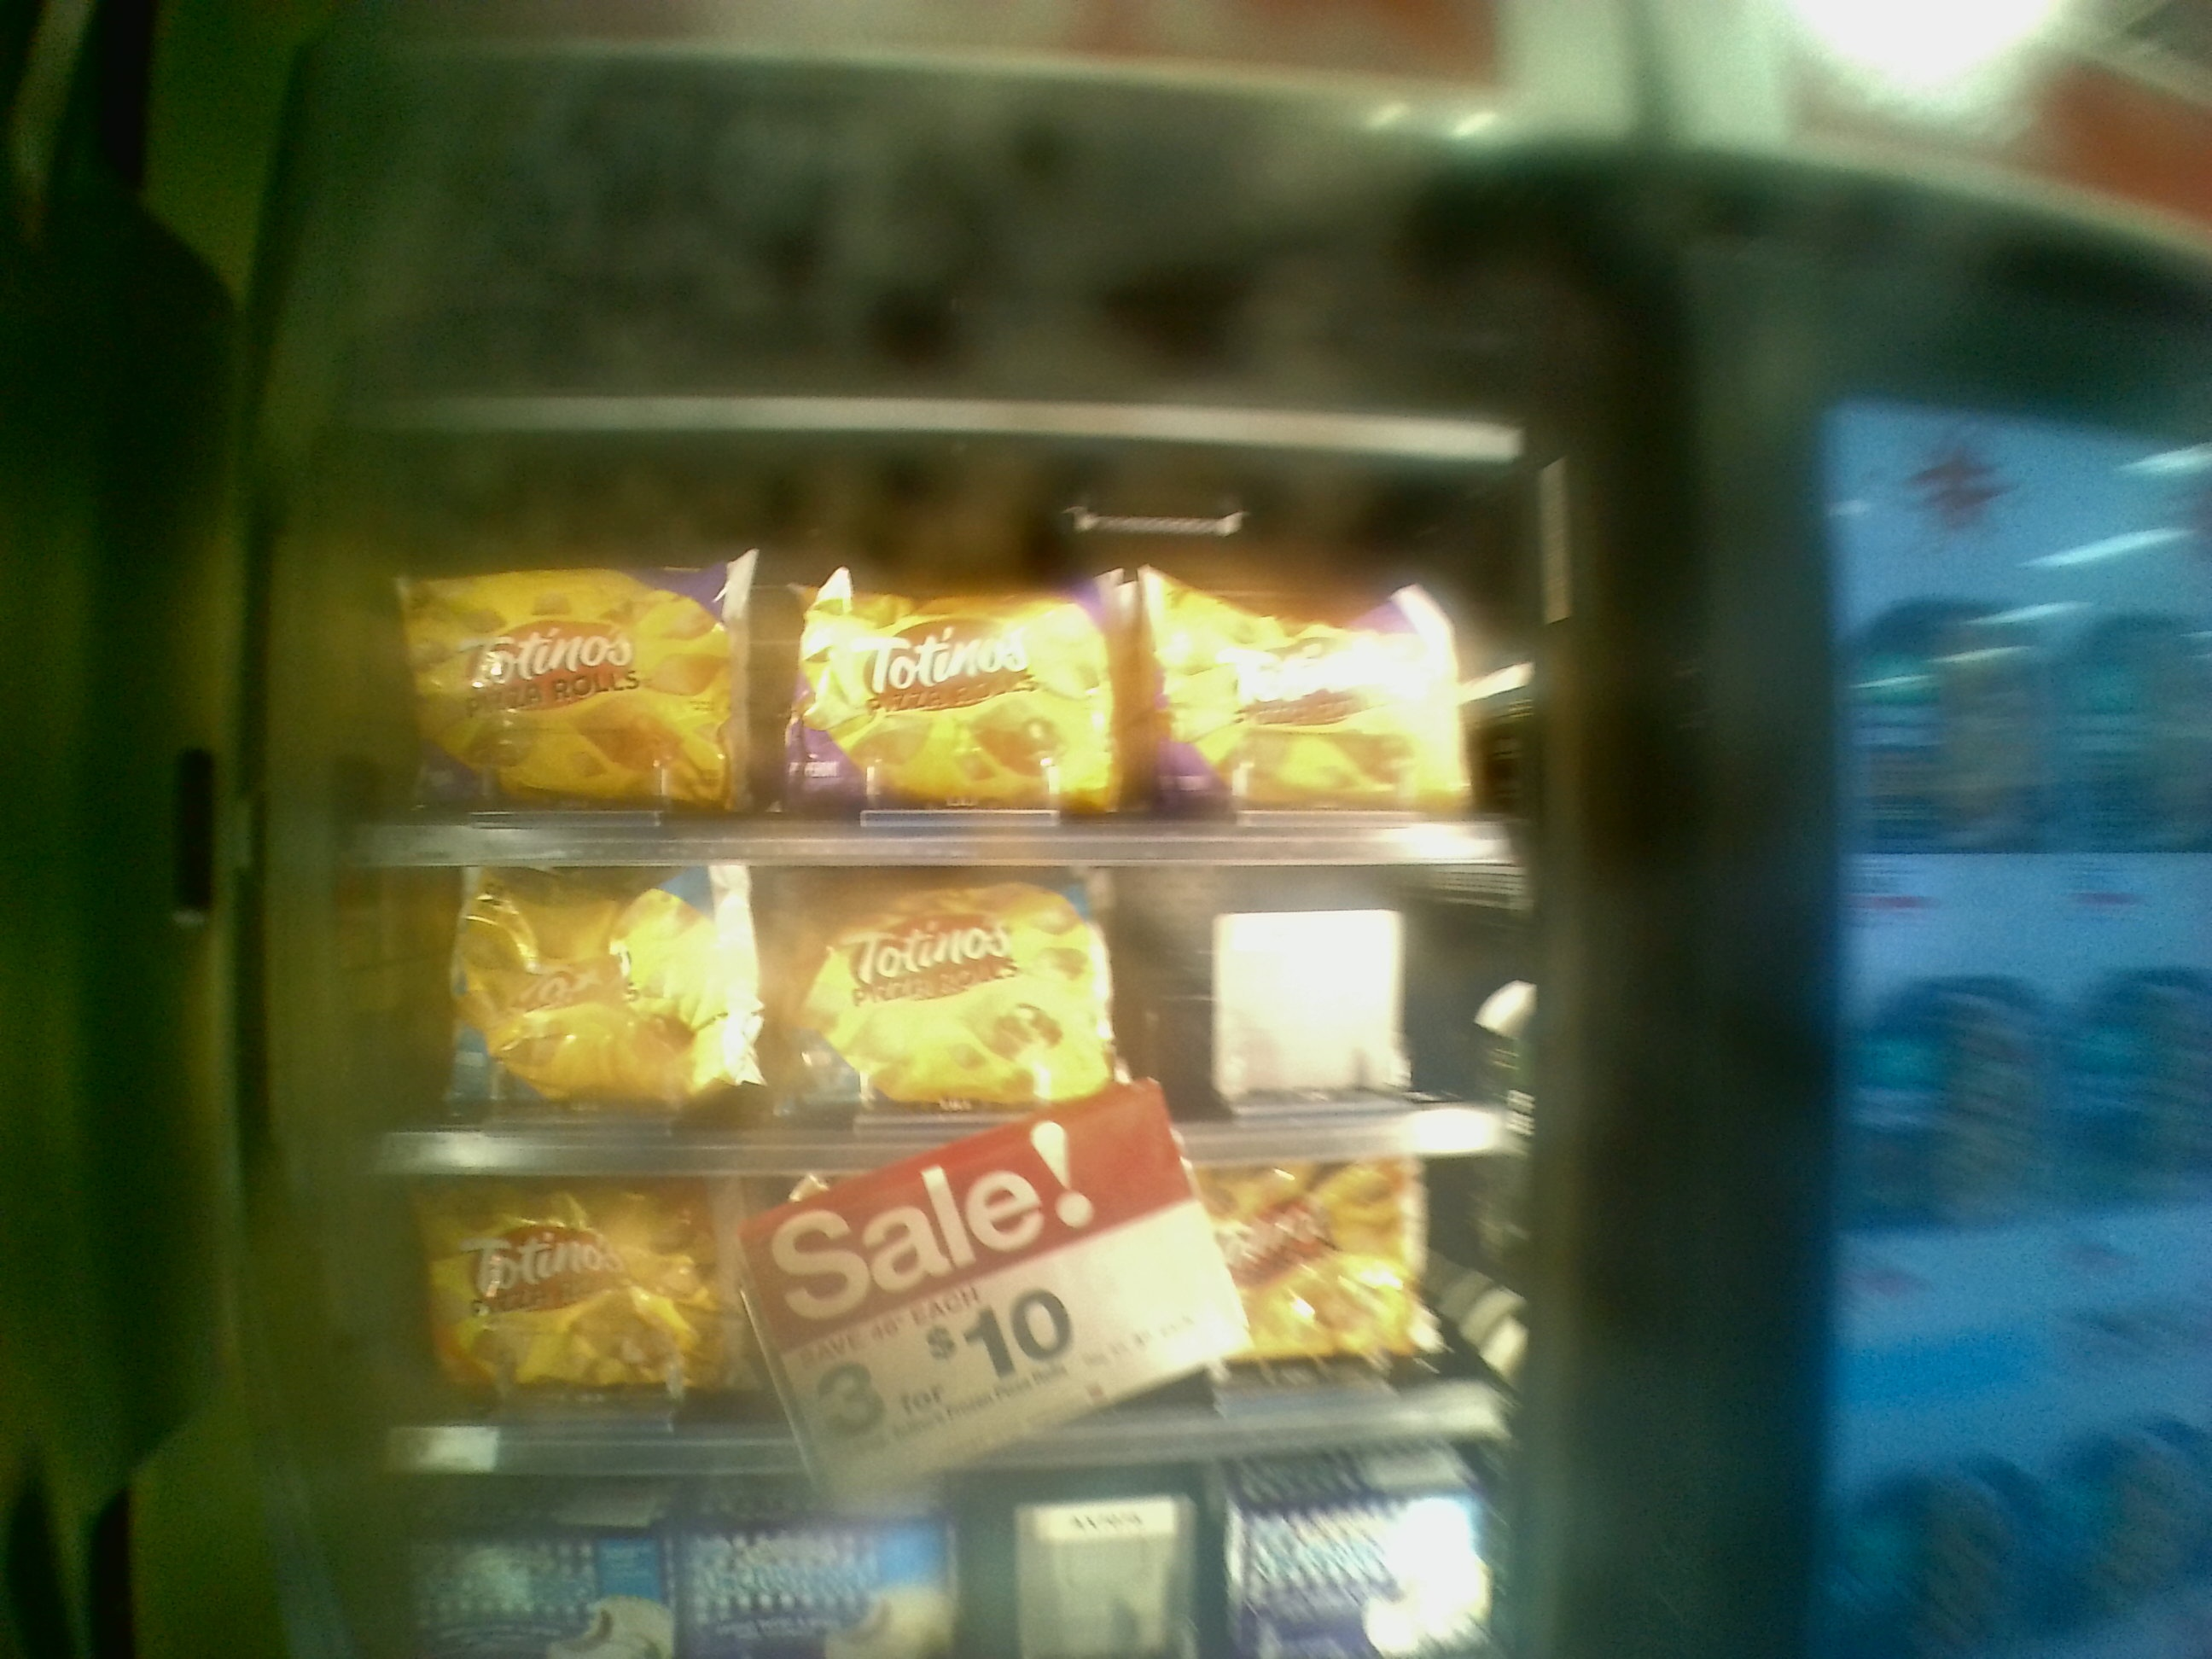shelf: (329, 443, 1534, 866), (319, 866, 1524, 1166), (334, 1180, 1519, 1459)
